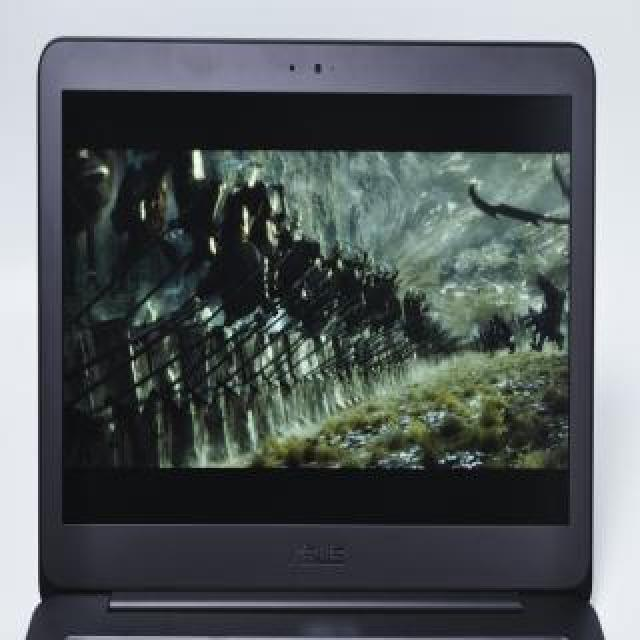laptop_computer: (32, 26, 640, 640)
